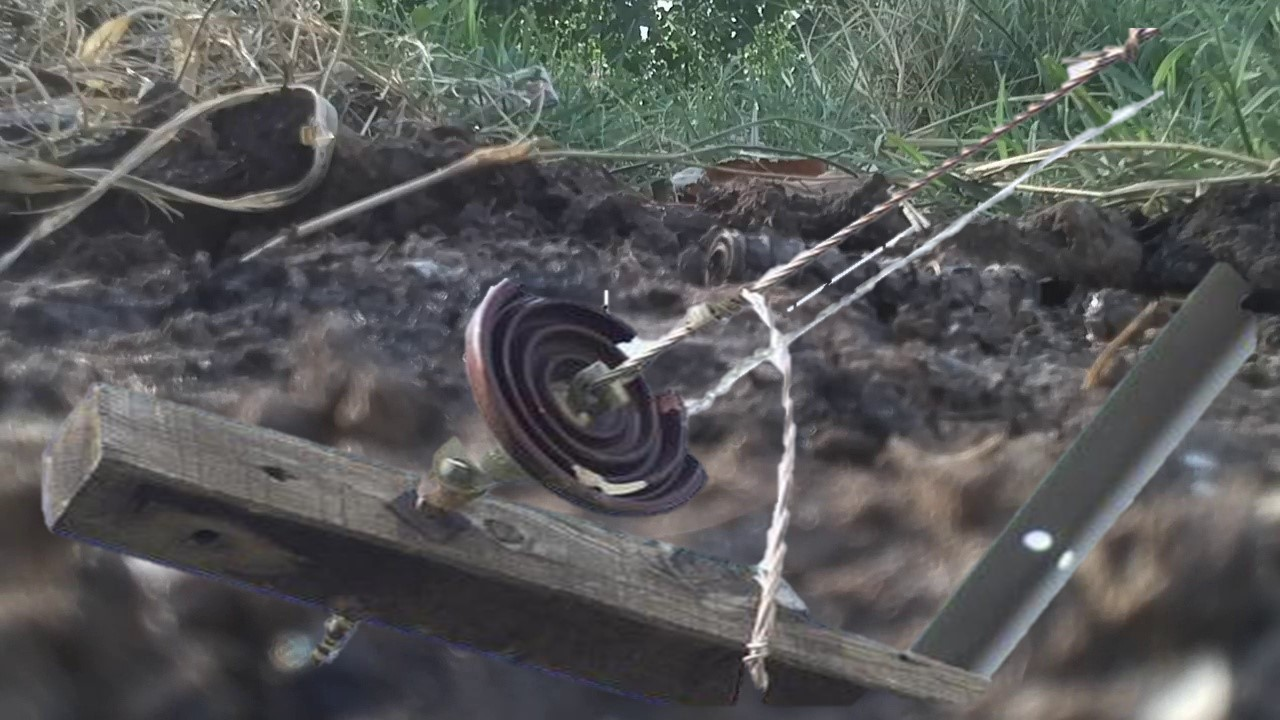defect_disc: (458, 264, 717, 525)
